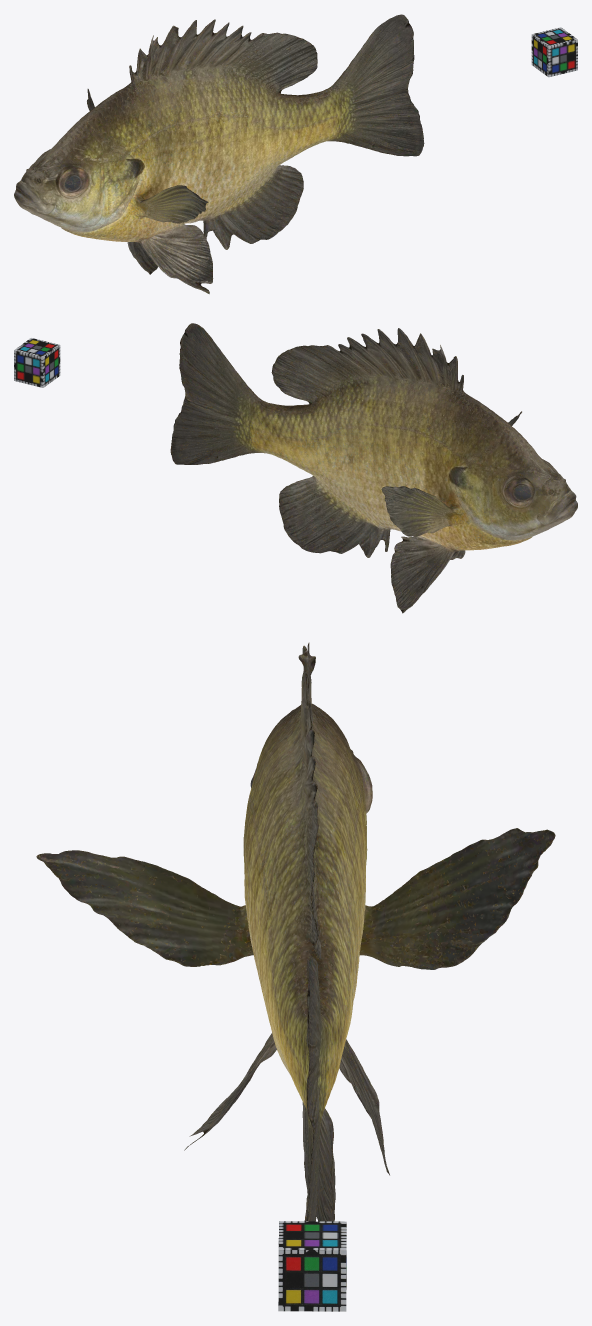
File: scan_bluegill.glb
3 views of the same model, one above another, from view 1: azimuth 30°, elevation 25°; view 2: azimuth 150°, elevation 25°; view 3: azimuth 270°, elevation 25° (orthographic). The views are drawn at different scales.
Visible parts, largest first — view 1: Object_6, Object_4; view 2: Object_6, Object_4; view 3: Object_6, Object_4.
Part boxes in pixels (x1,y1,x2,y2): Object_6: [14, 14, 424, 294]; Object_4: [531, 27, 577, 77]; Object_6: [170, 323, 577, 613]; Object_4: [14, 338, 60, 387]; Object_6: [36, 642, 555, 1221]; Object_4: [278, 1221, 346, 1311].
Bounding box in the file's own units: 0.1829 × 0.0834 × 0.0743.
2 materials, 2 textured.
